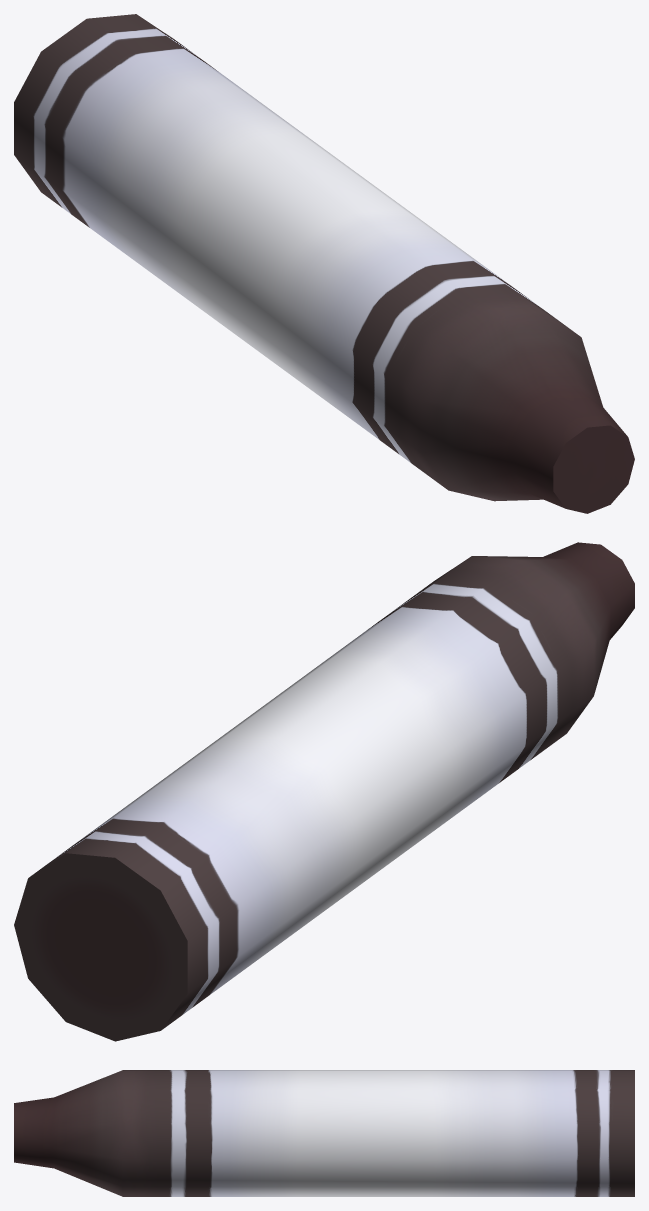
File: crayon.fbx
3 renders of one model, top to bottom at view 1: azimuth 30°, elevation 25°; view 2: azimuth 150°, elevation 25°; view 3: azimuth 270°, elevation 25°, orthographic. The views are drawn at different scales.
Parts seen in each view (by area): view 1: Cylinder002; view 2: Cylinder002; view 3: Cylinder002.
Part boxes in pixels (x1,y1,x2,y2): Cylinder002: (14,14,634,513); Cylinder002: (14,542,634,1041); Cylinder002: (14,1070,634,1196).
Size of the model in its own units: 1.81 by 1.83 by 8.88.
1 material, 1 textured.
